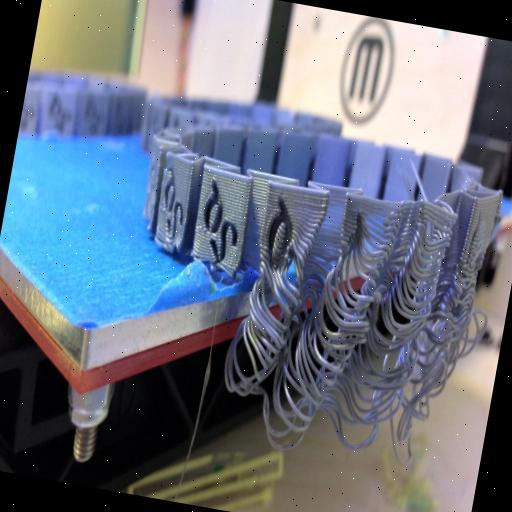spaghetti: (199, 180, 498, 471)
